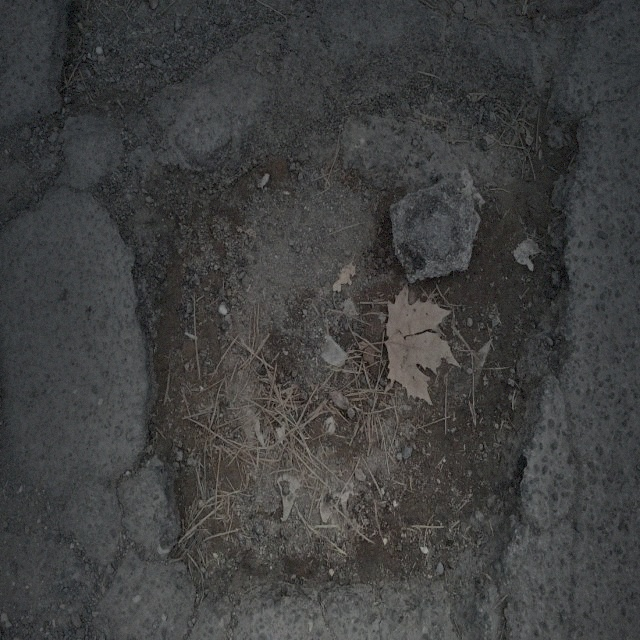pothole: (112, 75, 582, 588)
